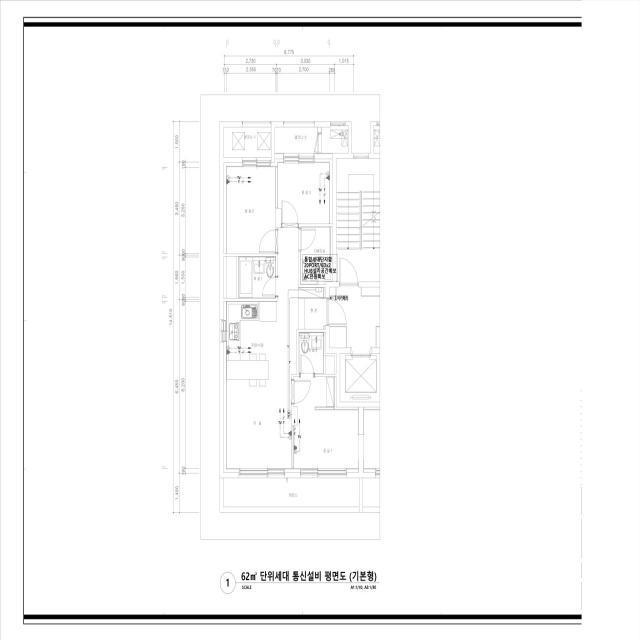space_balconi: (224, 127, 271, 160), (275, 127, 318, 156)
space_bedroom: (292, 377, 358, 473), (224, 163, 275, 254), (275, 159, 332, 224)
space_elevator: (340, 353, 380, 402)
space_elevator_hall: (330, 287, 380, 348)
space_front: (299, 288, 327, 329)
space_kitchen: (224, 301, 278, 382)
space_living_room: (224, 227, 299, 473)
space_multipurpose_space: (301, 227, 332, 285)
space_other: (224, 256, 238, 298)
space_staircase: (336, 159, 380, 282)
space_toilet: (238, 256, 276, 298), (299, 332, 336, 374)
